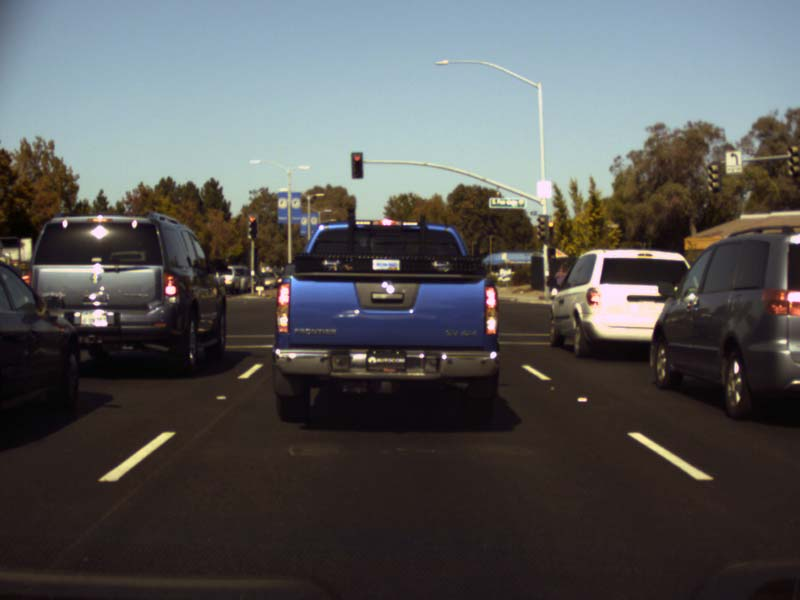Red: (351, 152, 361, 178), (248, 215, 256, 238), (548, 221, 552, 237)
